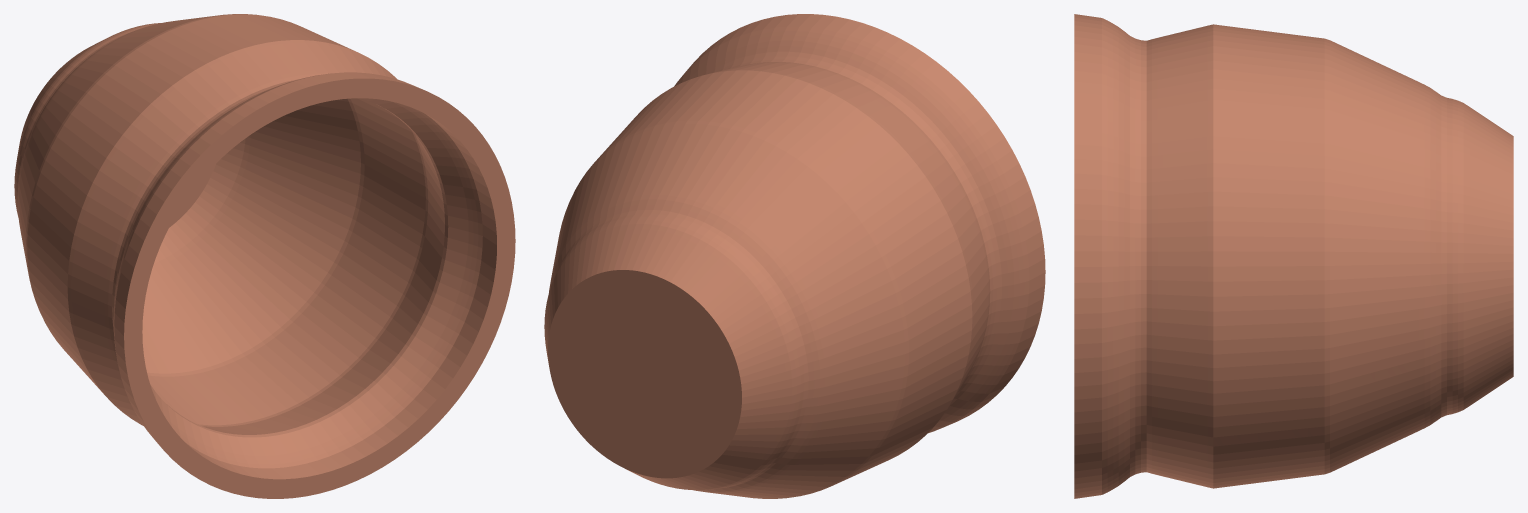
Rendered from Pot_05_Spanish_Bell.glb.
3 views of the same model, side by side, from view 1: azimuth 30°, elevation 25°; view 2: azimuth 150°, elevation 25°; view 3: azimuth 270°, elevation 25° (orthographic). The views are drawn at different scales.
Visible parts, largest first — view 1: Pot_05_Spanish_Bell; view 2: Pot_05_Spanish_Bell; view 3: Pot_05_Spanish_Bell.
Part boxes in pixels (bbox=[...]): Pot_05_Spanish_Bell: bbox=[14, 14, 515, 498]; Pot_05_Spanish_Bell: bbox=[544, 14, 1045, 498]; Pot_05_Spanish_Bell: bbox=[1074, 14, 1513, 498].
Bounding box in the file's own units: 0.234 × 0.234 × 0.212.
